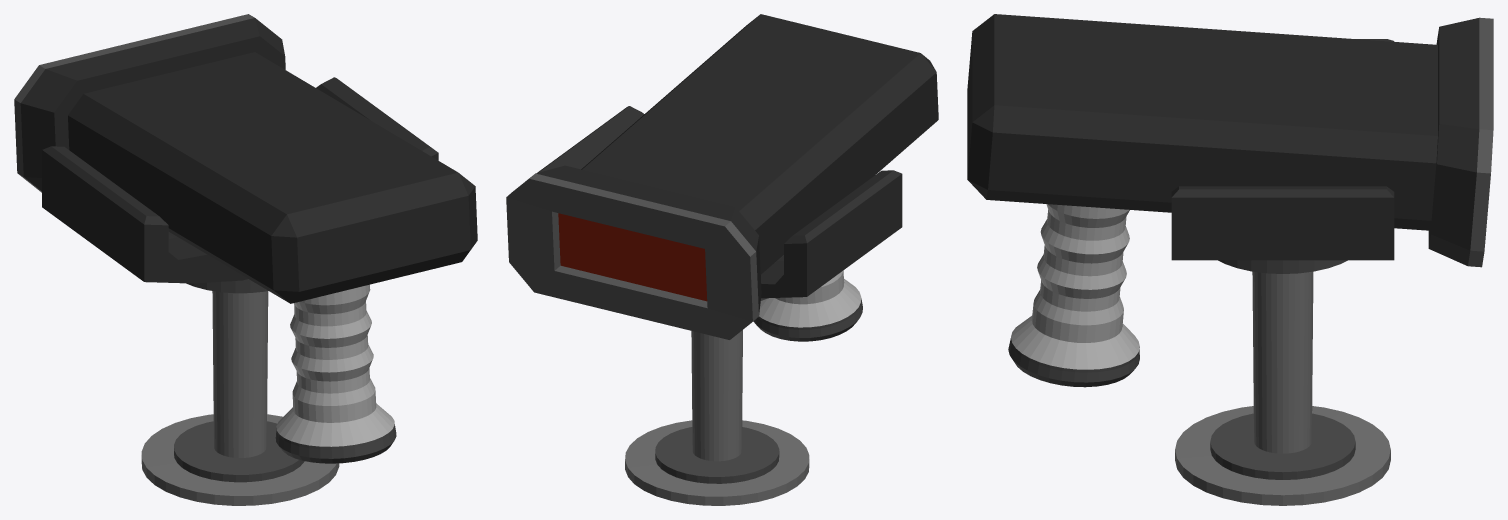
The model's file is Item Scanner.fbx.
3 views of the same model, side by side, from view 1: azimuth 30°, elevation 25°; view 2: azimuth 150°, elevation 25°; view 3: azimuth 270°, elevation 25° (orthographic). The views are drawn at different scales.
Parts seen in each view (by area): view 1: Item Scanner; view 2: Item Scanner; view 3: Item Scanner.
Part boxes in pixels (x1=…): Item Scanner: x1=14, y1=14, x2=477, y2=505; Item Scanner: x1=506, y1=14, x2=938, y2=505; Item Scanner: x1=967, y1=14, x2=1493, y2=505.
Size of the model in its own units: 27.61 by 32.94 by 39.19.
Materials: 1 (1 with a texture image).
